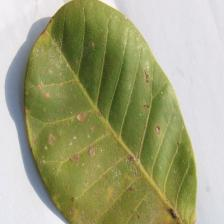red rust: (23, 0, 198, 224)
